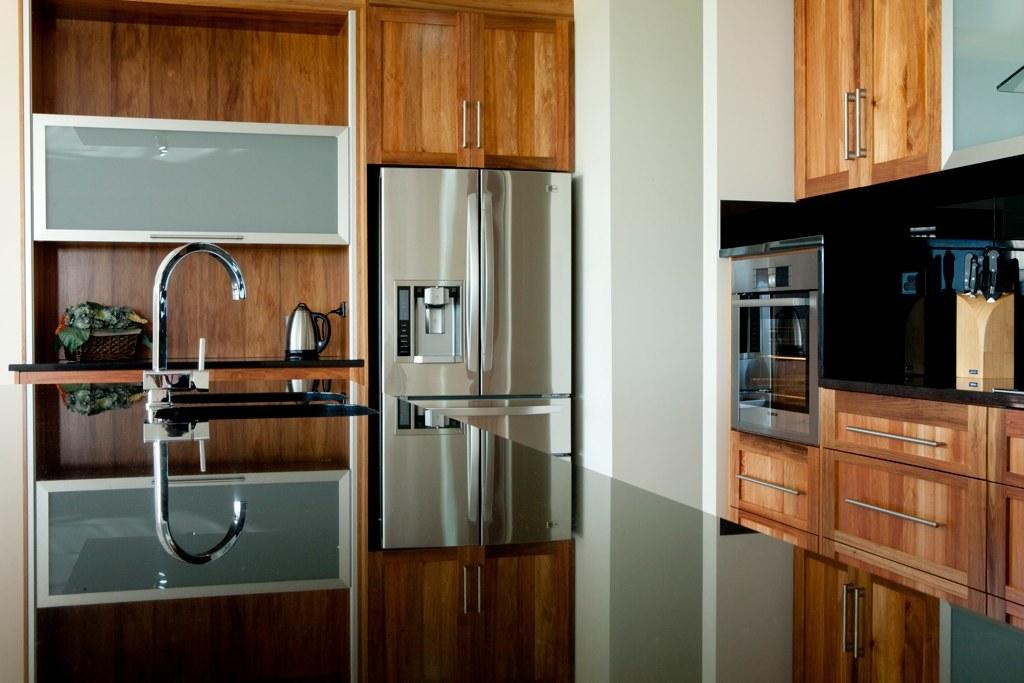cabinet_door: (33, 118, 349, 252), (369, 4, 471, 160), (473, 10, 573, 165), (830, 460, 982, 552), (860, 13, 934, 167), (798, 14, 860, 184), (836, 399, 978, 463), (731, 444, 825, 513), (999, 488, 1024, 592), (991, 415, 1024, 471)
handle: (433, 396, 561, 426), (852, 495, 942, 530), (464, 196, 482, 370), (845, 422, 943, 450), (482, 197, 496, 371), (737, 472, 808, 498), (468, 428, 486, 511), (152, 230, 250, 244), (484, 434, 500, 516), (842, 85, 856, 166), (450, 97, 470, 151), (856, 90, 866, 165), (476, 98, 490, 148)
